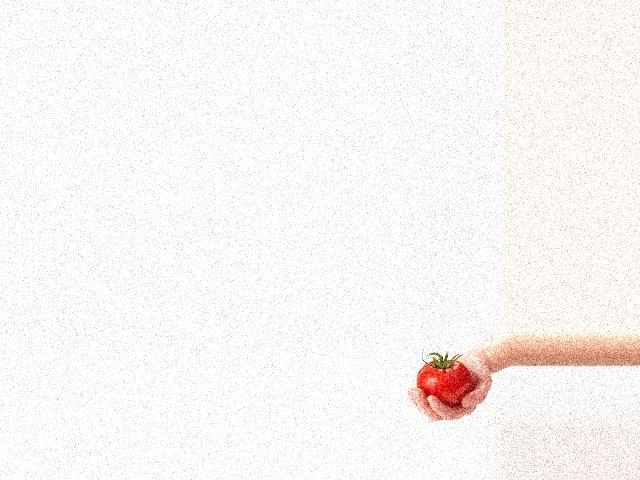tomato: (416, 359, 470, 406)
